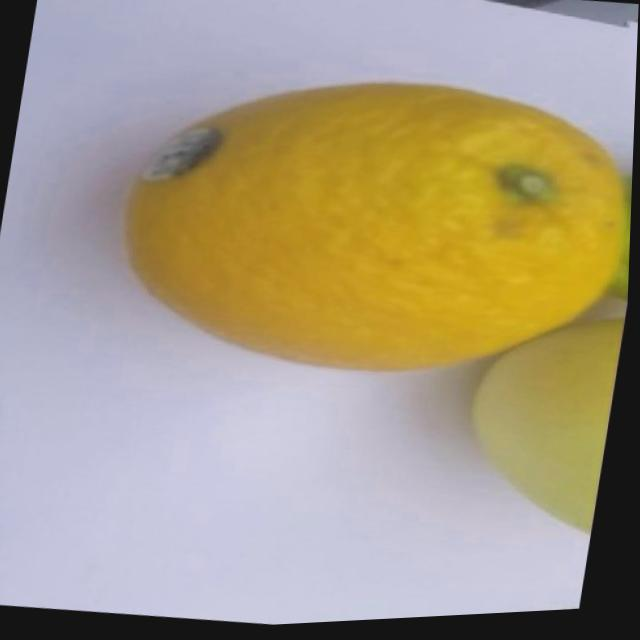Orange: (103, 42, 638, 413)
